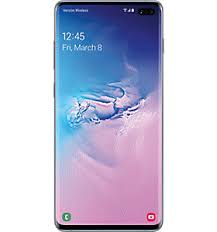samsung: (50, 1, 166, 231)
